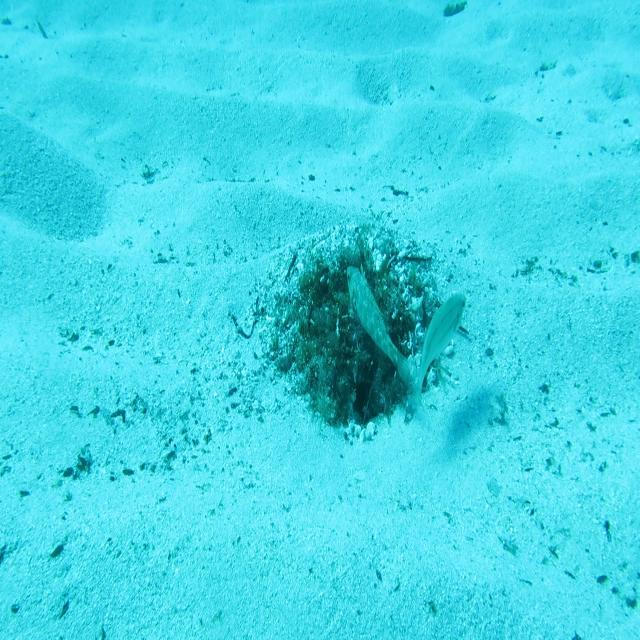FAN: (345, 261, 413, 394)
core_nest: (326, 270, 374, 317)
female: (404, 288, 468, 418)
nest: (248, 205, 474, 459)
vegetation: (441, 0, 469, 21)
